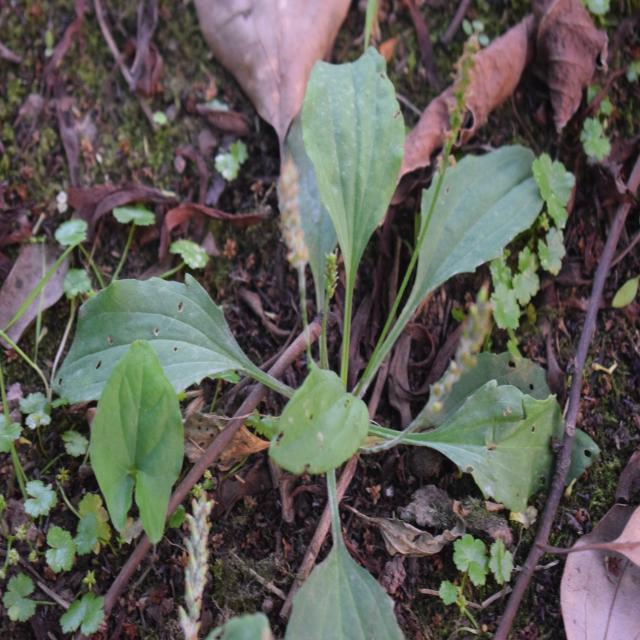plantain: (106, 60, 541, 518)
